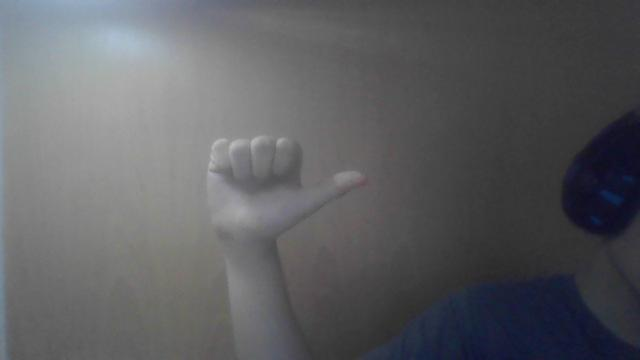left: (195, 126, 372, 248)
